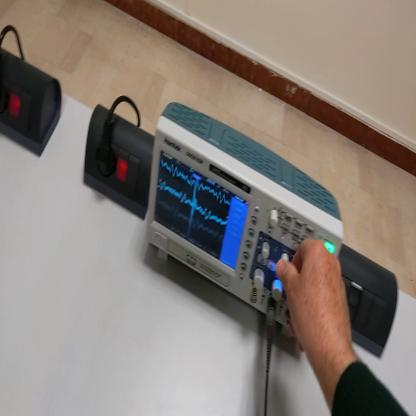hand: (277, 236, 356, 367)
oscilloscope: (144, 104, 341, 342)
socket: (84, 98, 157, 224), (2, 47, 62, 159)
